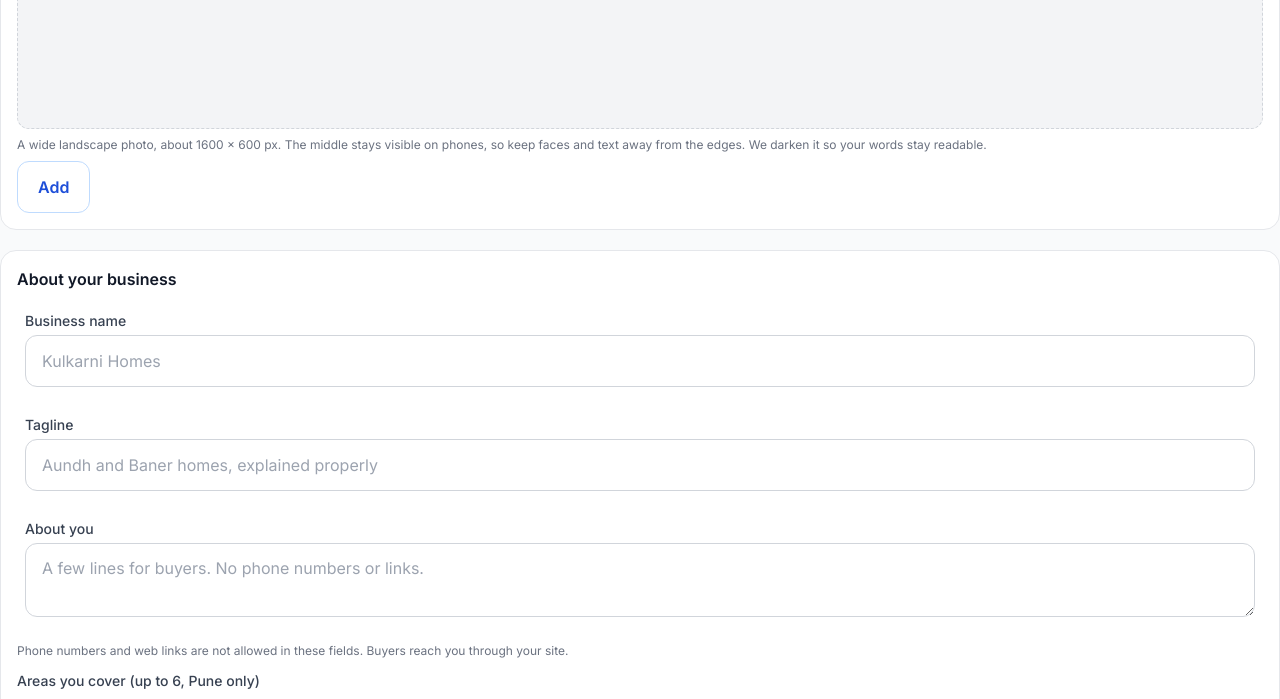
Test: BrandEditor › preview follows the typed business name and tagline
The width and height of the screenshot is (1280, 699).
(page scrolled)
In the field labelled "Business name": [640, 361] box [25,335,1255,387], type "Joshi & Associates"
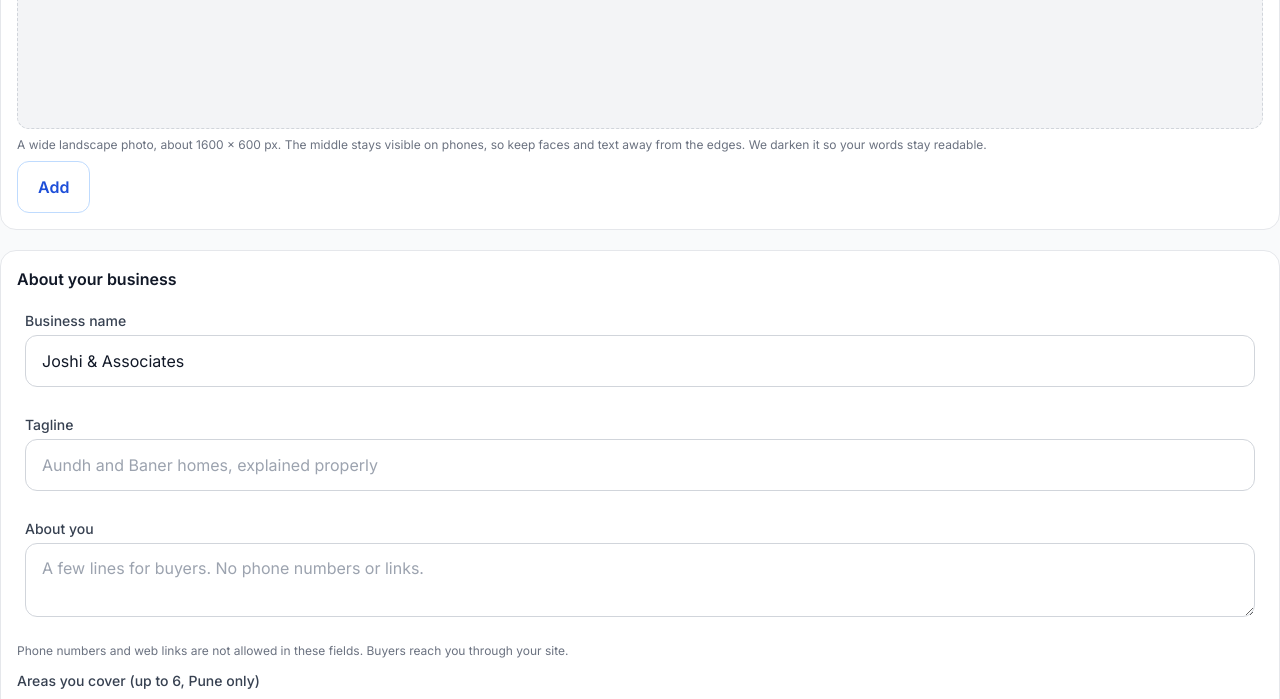
In the field labelled "Tagline": [640, 465] box [25,439,1255,491], type "Kothrud since 2011"
(page scrolled)
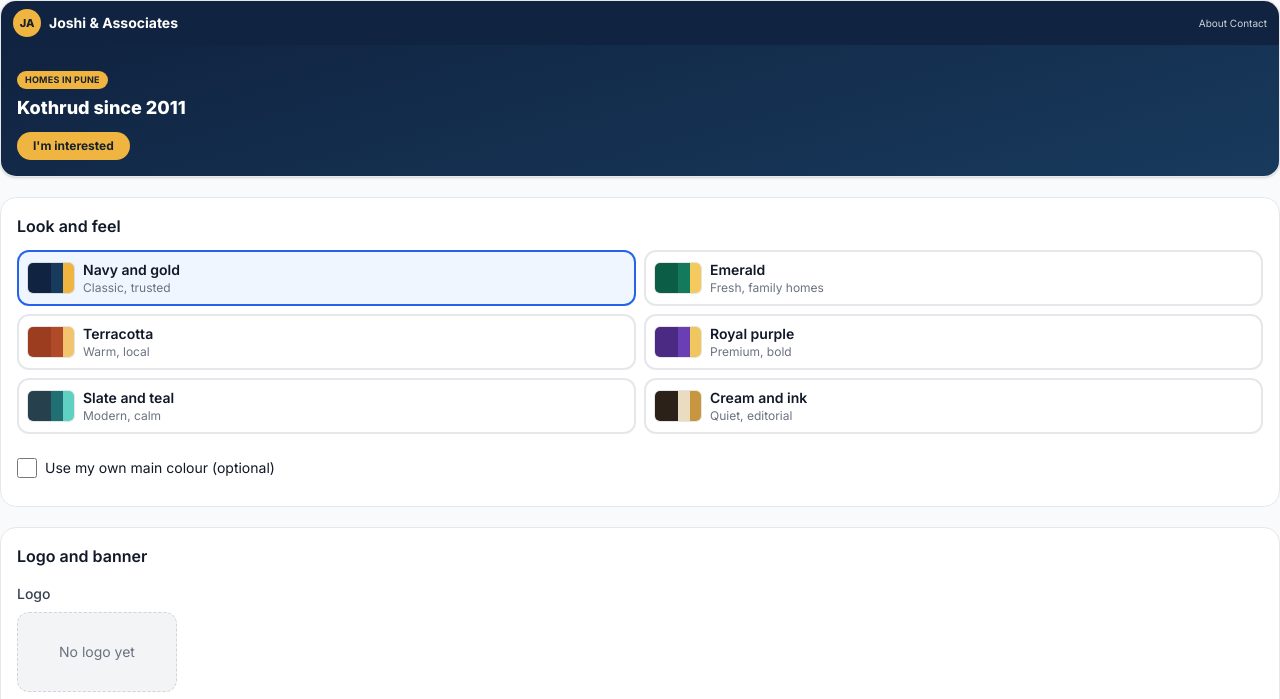
Now the element with test id "brand-preview" shows "Joshi & Associates", box [49,14,178,31]
Now the element with test id "brand-preview" shows "Kothrud since 2011", box [17,97,186,118]
